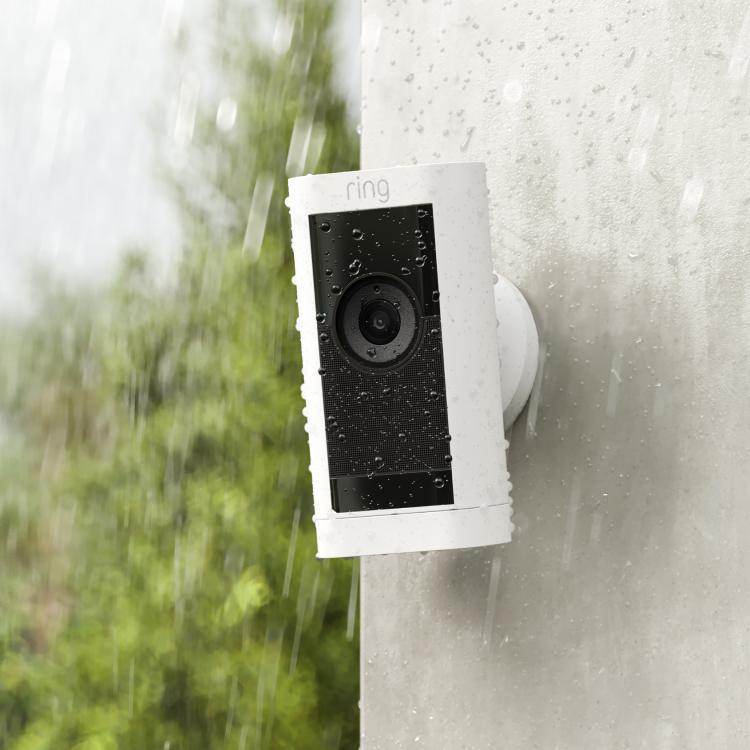Security camera: (284, 160, 530, 559)
